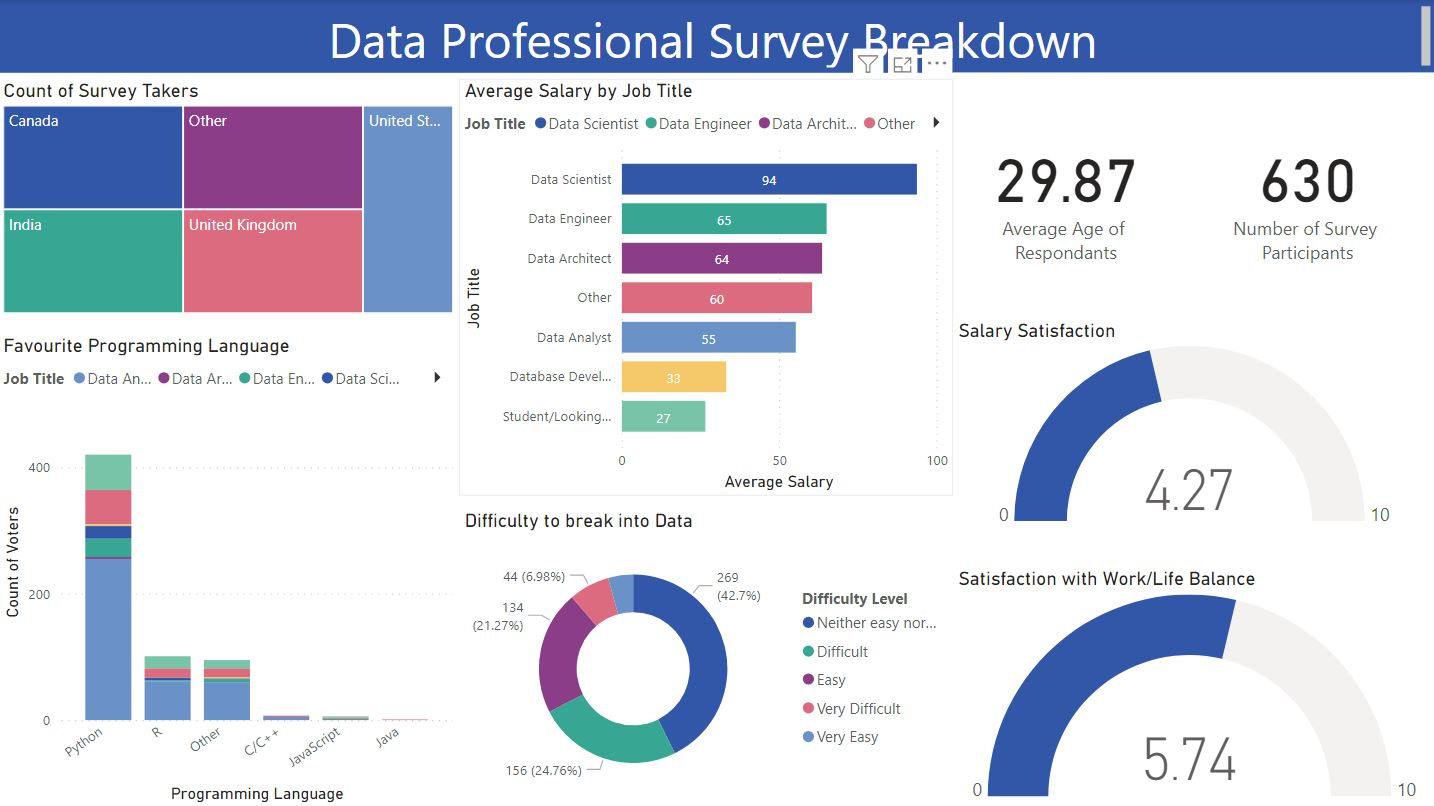

This screenshot's page, from the dashboard's own definition file:
{"tool":"powerbi","page":{"name":"Page 1","canvas":[1280,720],"ordinal":0},"visuals":[{"type":"textbox","box":[0,0,1280.5,64.6],"z":0},{"type":"card","fields":{"Values":["Count(Data Professional Survey.Unique ID)"]},"box":[1051.8,64.6,228.8,200.2],"z":1000},{"type":"card","fields":{"Values":["Avg(Data Professional Survey.Q10 - Current Age)"]},"box":[850.4,64.6,201.4,200.2],"z":2000},{"type":"barChart","title":"Average Salary by Job Title","fields":{"Category":["Data Professional Survey.Q1 - Which Title Best Fits your Current Role?.1.1"],"Y":["Avg(Data Professional Survey.Average_salary)"],"Series":["Data Professional Survey.Q1 - Which Title Best Fits your Current Role?.1.1"]},"box":[410.3,69.6,440.1,371.7],"z":3000},{"type":"columnChart","title":"Favourite Programming Language","fields":{"Category":["Data Professional Survey.Q5 - Favorite Programming Language.1"],"Y":["CountNonNull(Data Professional Survey.Unique ID)"],"Series":["Data Professional Survey.Q1 - Which Title Best Fits your Current Role?.1.1"]},"box":[0,297.1,410.3,422.7],"z":4000},{"type":"treemap","title":"Count of Survey Takers","fields":{"Group":["Data Professional Survey.Q11 - Which Country do you live in?.1","Data Professional Survey.Q1 - Which Title Best Fits your Current Role?.1.1"],"Values":["Count(Data Professional Survey.Q11 - Which Country do you live in?.1)"]},"box":[0,69.6,410.3,213.8],"z":5000},{"type":"gauge","title":"Salary Satisfaction","fields":{"Y":["Avg(Data Professional Survey.Q6 - How Happy are you in your Current Position with the following? (Salary))"],"MinValue":["Min(Data Professional Survey.Q6 - How Happy are you in your Current Position with the following? (Salary))1"],"MaxValue":["Max(Data Professional Survey.Q6 - How Happy are you in your Current Position with the following? (Salary))2"]},"box":[850.4,283.5,430.2,190.2],"z":6000},{"type":"gauge","title":"Satisfaction with Work/Life Balance","fields":{"Y":["Avg(Data Professional Survey.Q6 - How Happy are you in your Current Position with the following? (Work/Life Balance))"],"MaxValue":["Max(Data Professional Survey.Q6 - How Happy are you in your Current Position with the following? (Work/Life Balance))"],"MinValue":["Min(Data Professional Survey.Q6 - How Happy are you in your Current Position with the following? (Work/Life Balance))"]},"box":[850.4,504.7,430.2,213.8],"z":7000},{"type":"donutChart","title":"Difficulty to break into Data","fields":{"Category":["Data Professional Survey.Q7 - How difficult was it for you to break into Data?"],"Y":["CountNonNull(Data Professional Survey.Q7 - How difficult was it for you to break into Data?)"]},"box":[410.3,452.5,440.1,266],"z":8000}]}

Visuals, with their boxes in screenshot pixels (x1, y1, x2, y2), scaled from the page's 1280x720 canvas onto the 1434x806 screenshot:
textbox: [0, 0, 1433, 72]
card - Count(Data Professional Survey.Unique ID): [1178, 72, 1433, 296]
card - Avg(Data Professional Survey.Q10 - Current Age): [953, 72, 1178, 296]
"Average Salary by Job Title" barChart: [460, 78, 953, 494]
"Favourite Programming Language" columnChart: [0, 333, 460, 805]
"Count of Survey Takers" treemap: [0, 78, 460, 317]
"Salary Satisfaction" gauge: [953, 317, 1433, 530]
"Satisfaction with Work/Life Balance" gauge: [953, 565, 1433, 804]
"Difficulty to break into Data" donutChart: [460, 507, 953, 804]
